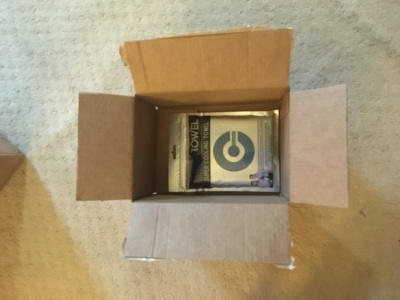innerbox: (133, 92, 288, 202)
outerbox: (78, 40, 350, 263)
product: (169, 114, 278, 189)
